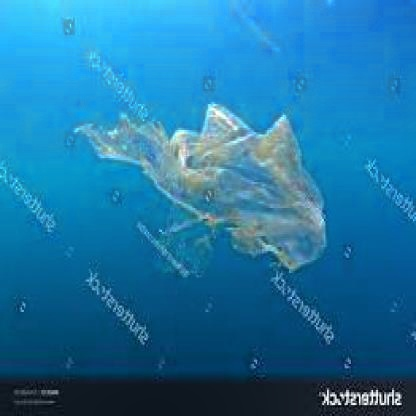pbag: (64, 97, 326, 271)
